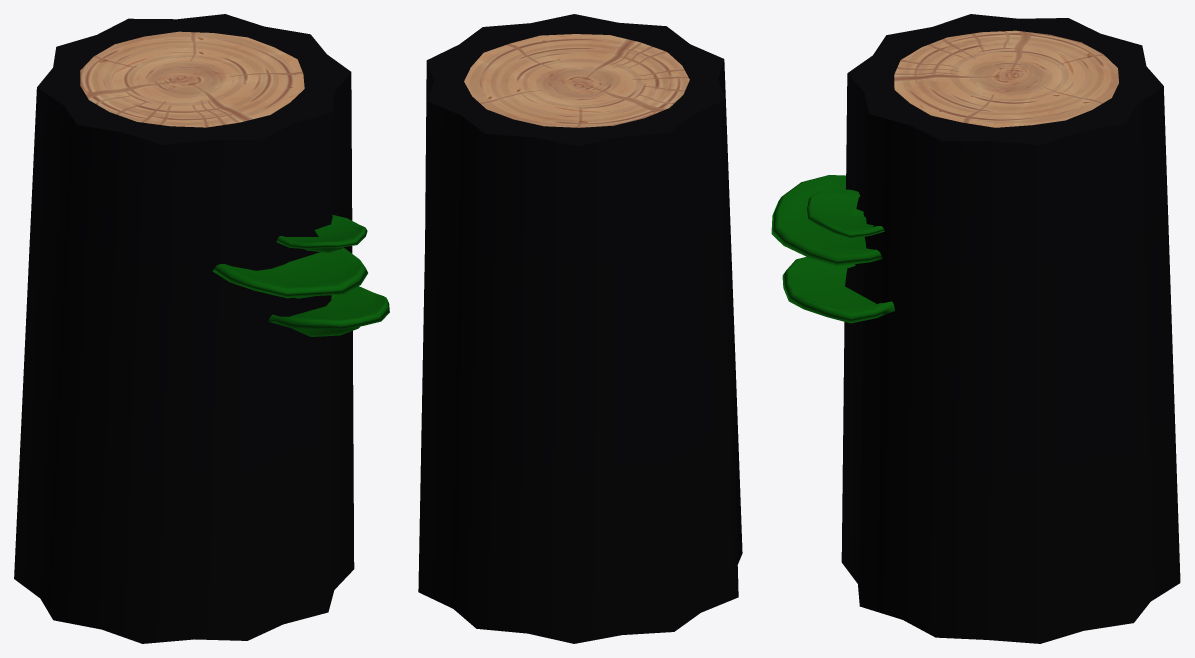
The model's file is obj_harvests_trees_pine02_p01.fbx.
3 views of the same model, side by side, from view 1: azimuth 30°, elevation 25°; view 2: azimuth 150°, elevation 25°; view 3: azimuth 270°, elevation 25° (orthographic).
Parts seen in each view (by area): view 1: chunk01; view 2: chunk01; view 3: chunk01.
Boxes of the visible parts, x1,y1,x2,y2 form: chunk01: (14, 14, 389, 643); chunk01: (418, 14, 742, 643); chunk01: (771, 14, 1180, 643).
Size of the model in its own units: 4.92 by 8.02 by 5.97.
